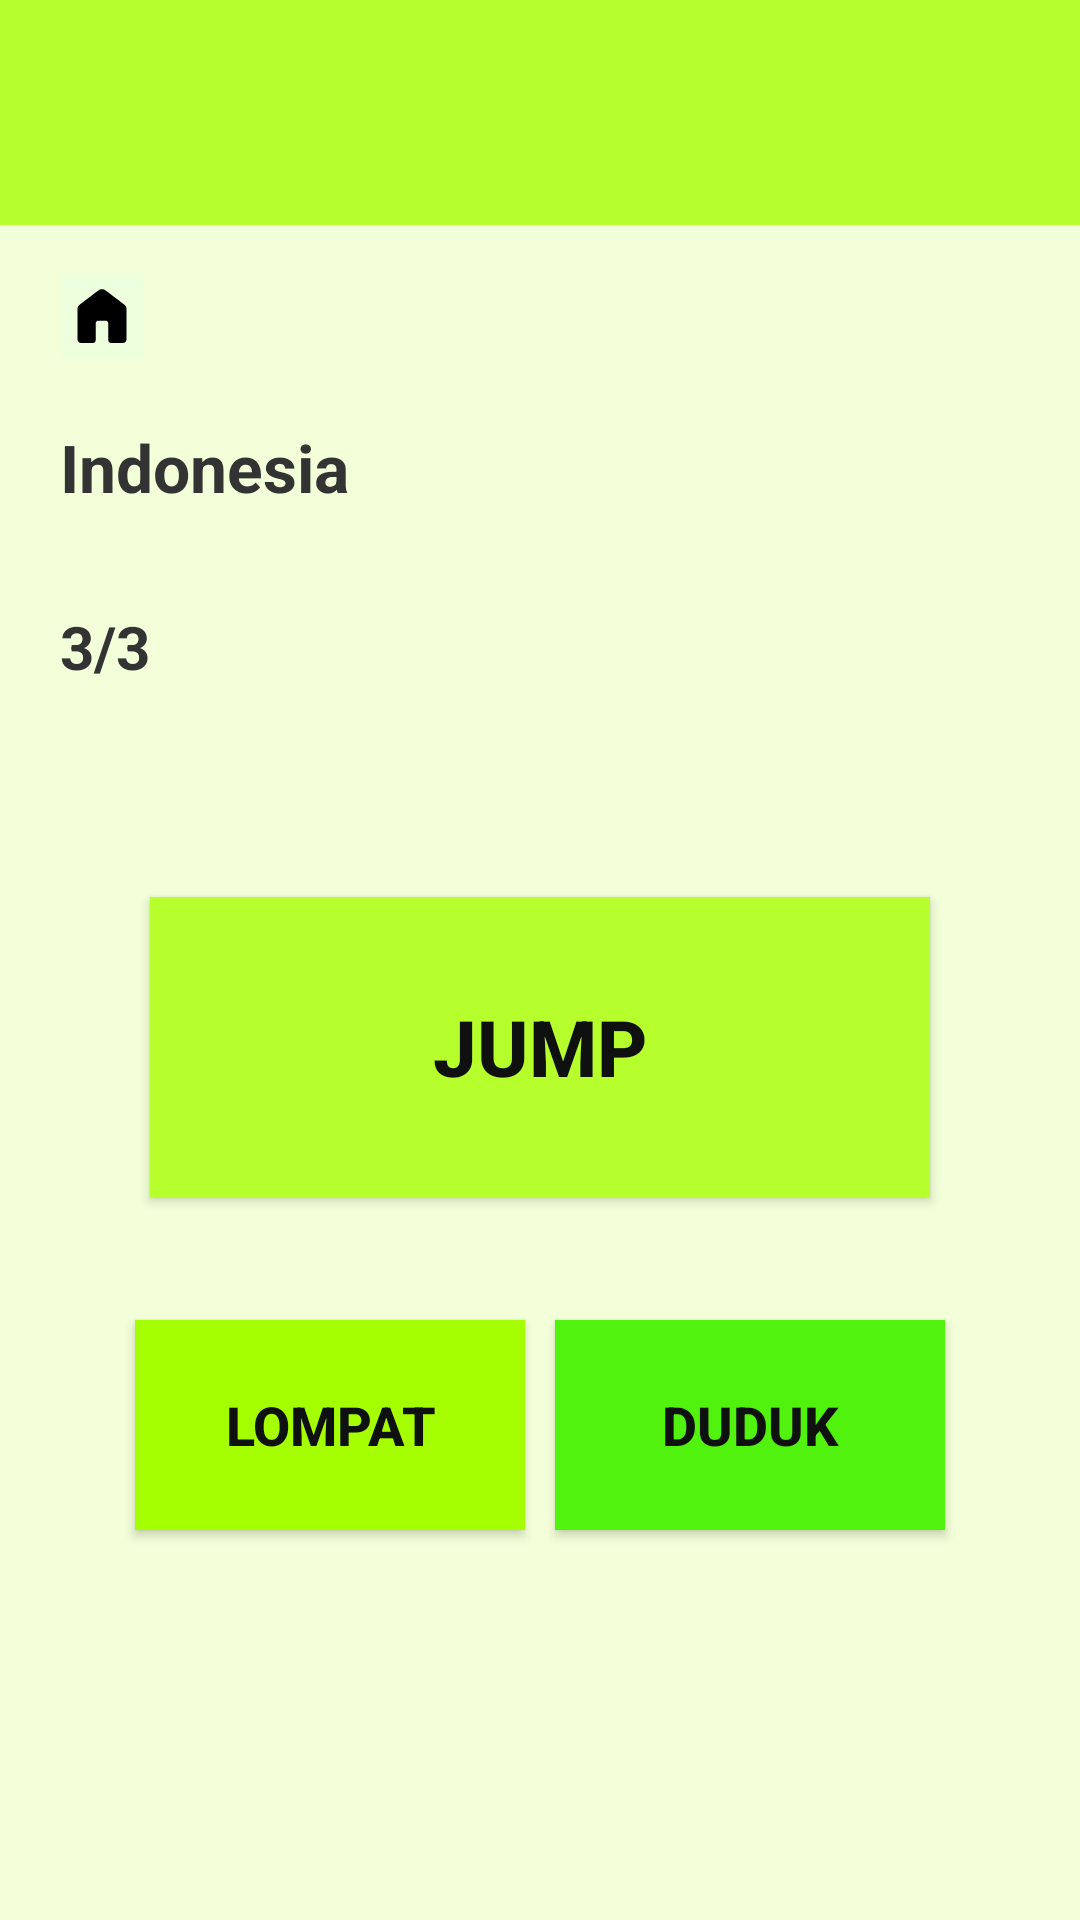

Where icons sit on this 1080*1920 app screen, as (x1=x1, y1=y1, x2=x2, y2=y2):
Home: (x1=77, y1=289, x2=127, y2=343)
